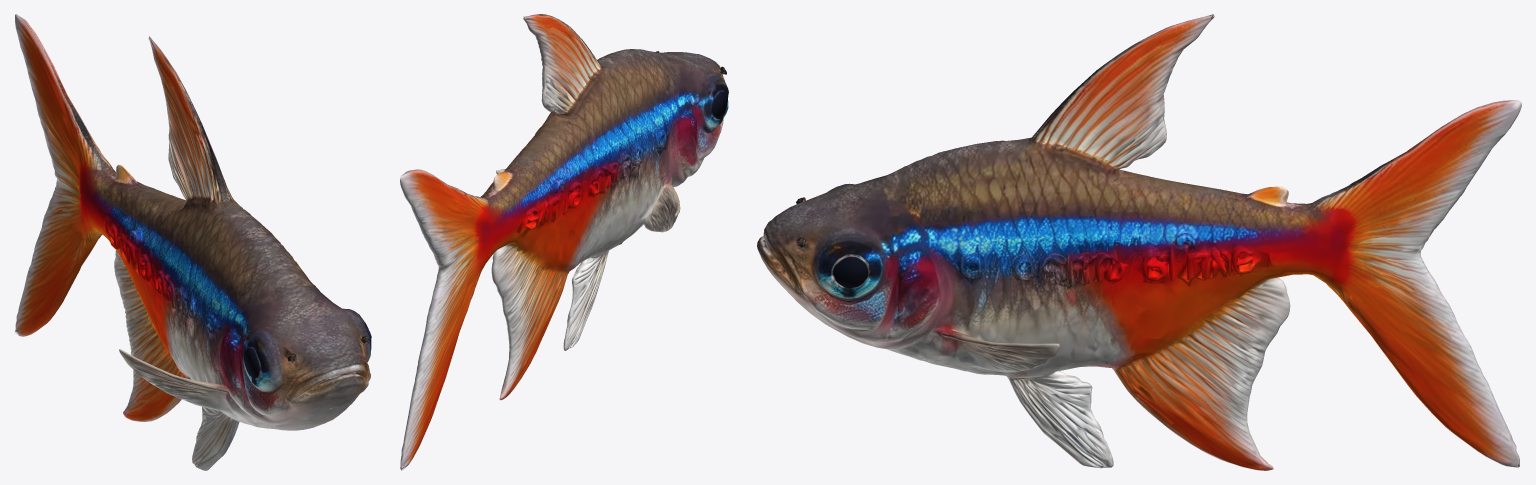
Rendered from neon.glb.
3 renders of one model, left to right at view 1: azimuth 30°, elevation 25°; view 2: azimuth 150°, elevation 25°; view 3: azimuth 270°, elevation 25°, orthographic. The views are drawn at different scales.
Parts seen in each view (by area): view 1: Body; view 2: Body; view 3: Body.
Boxes of the visible parts, left/top/right/bottom form: Body: left=14, top=14, right=371, bottom=470; Body: left=400, top=14, right=728, bottom=470; Body: left=757, top=14, right=1521, bottom=470.
Size of the model in its own units: 0.1544 by 0.3007 by 0.4561.
Materials: 1 (1 with a texture image).
